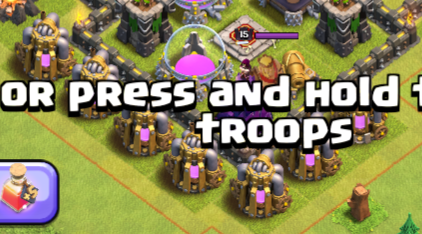elixir_colector: (7, 8, 72, 92), (159, 128, 226, 204), (228, 148, 292, 225), (110, 92, 181, 158), (281, 110, 342, 185), (62, 50, 120, 122), (342, 79, 393, 149)
